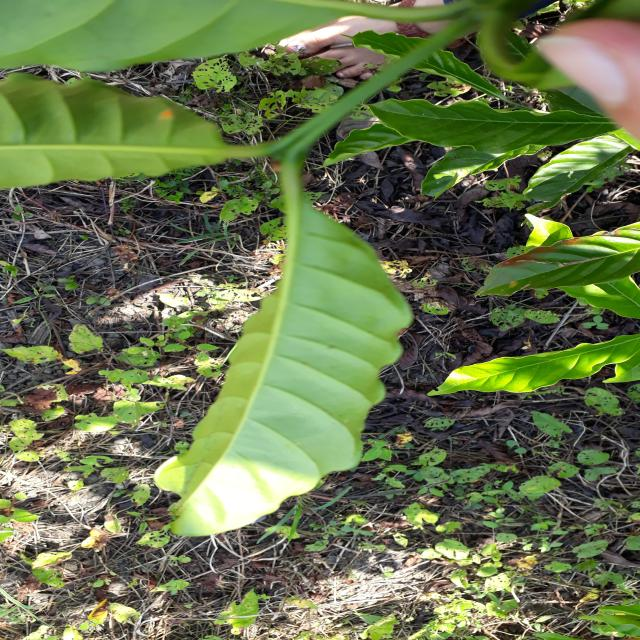Sanas: (152, 161, 413, 540)
